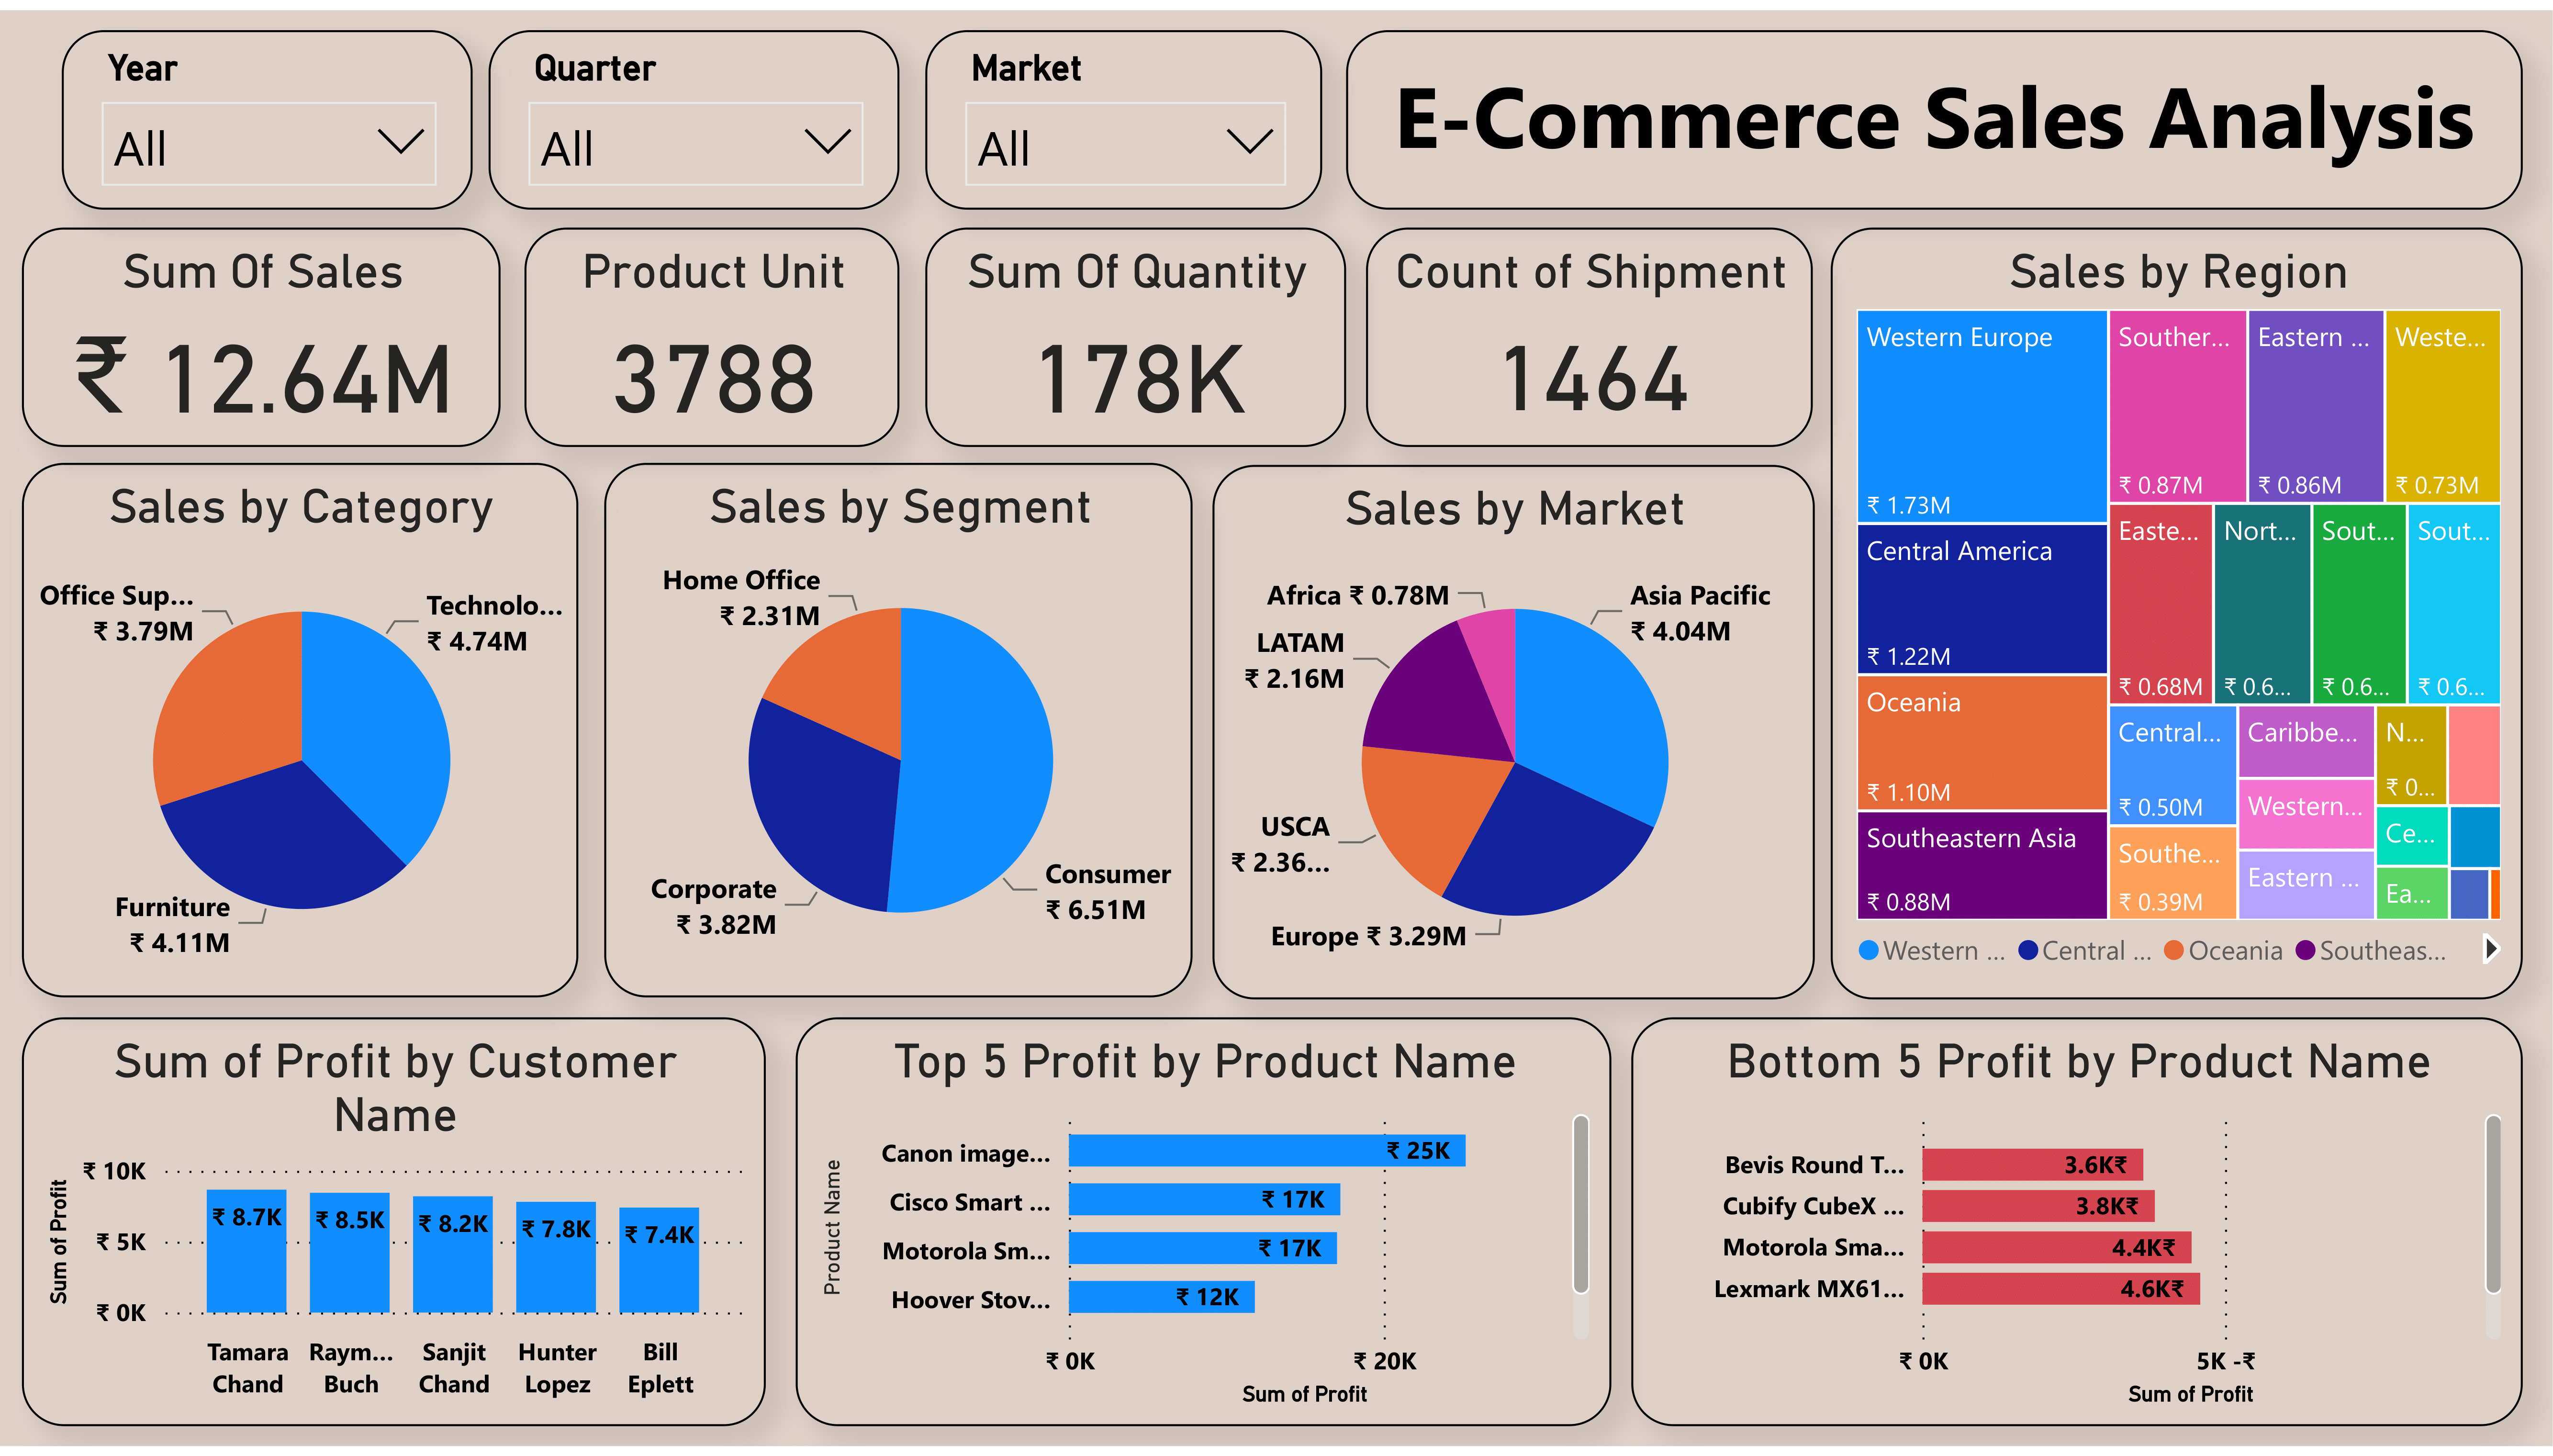

The dashboard page shown, as its layout file describes it:
{"tool":"powerbi","page":{"name":"project `","canvas":[1280,720],"ordinal":0},"visuals":[{"type":"slicer","fields":{"Values":["Orders.Order Date.Variation.Date Hierarchy.Year"]},"box":[10.9,9.6,226.7,90.5],"z":0},{"type":"card","title":"Total Profit ","fields":{"Values":["Orders.Profit"]},"box":[271.4,108.5,224.3,109.7],"z":1000},{"type":"card","title":"Sum Of Quantity","fields":{"Values":["Orders.Quantity"]},"box":[501.7,108.5,211.1,109.7],"z":2000},{"type":"card","title":"Avg Ship Date","fields":{"Values":["Orders.avgdel"]},"box":[721.2,109.7,188.1,109.7],"z":3000},{"type":"card","title":"Total Sales","fields":{"Values":["Orders.Sales"]},"box":[10.9,108.5,240,109.7],"z":4000},{"type":"pieChart","title":"Sales by Category","fields":{"Y":["Orders.Sales"],"Category":["Orders.Category"]},"box":[10.9,226.7,278.6,267.7],"z":5000},{"type":"pieChart","title":"Profit by Category","fields":{"Category":["Orders.Category"],"Y":["Orders.Profit"]},"box":[302.7,226.7,295.5,267.7],"z":6000},{"type":"pieChart","title":"Sales by Market ","fields":{"Y":["Orders.Sales"],"Category":["Orders.Market"]},"box":[607.8,227.9,301.5,267.7],"z":7000},{"type":"columnChart","fields":{"Y":["Orders.Profit"],"Category":["Orders.Customer Name"]},"box":[10.9,505.3,372.7,205],"z":8000},{"type":"barChart","title":"Top 5 Profit by Product Name","fields":{"Category":["Orders.Product Name"],"Y":["Orders.Profit"]},"box":[399.2,505.3,408.8,205],"z":9000},{"type":"barChart","title":"Bottom 5 Profit by Product Name","fields":{"Category":["Orders.Product Name"],"Y":["Orders.Profit"]},"box":[817.7,505.3,447.4,205],"z":10000},{"type":"textbox","box":[675.4,9.6,589.7,90.5],"z":11000},{"type":"slicer","fields":{"Values":["Orders.Order Date.Variation.Date Hierarchy.Quarter"]},"box":[244.8,9.6,206.2,90.5],"z":12000},{"type":"slicer","fields":{"Values":["Orders.Market"]},"box":[464.3,9.6,199,90.5],"z":13000},{"type":"treemap","title":"Sales by Region","fields":{"Group":["Orders.Region"],"Values":["Orders.Sales"]},"box":[917.8,108.5,347.3,387.1],"z":14000}]}

Visuals, with their boxes in screenshot pixels (x1, y1, x2, y2), scaled from the page's 1280x720 canvas onto the 2553x1456 screenshot:
slicer - Orders.Order Date.Variation.Date Hierarchy.Year: region(22, 20, 474, 202)
"Total Profit " card: region(541, 219, 989, 441)
"Sum Of Quantity" card: region(1001, 219, 1422, 441)
"Avg Ship Date" card: region(1438, 222, 1814, 444)
"Total Sales" card: region(22, 219, 501, 441)
"Sales by Category" pieChart: region(22, 459, 577, 1000)
"Profit by Category" pieChart: region(604, 459, 1193, 1000)
"Sales by Market " pieChart: region(1212, 461, 1814, 1002)
columnChart - Orders.Profit x Orders.Customer Name: region(22, 1022, 765, 1436)
"Top 5 Profit by Product Name" barChart: region(796, 1022, 1612, 1436)
"Bottom 5 Profit by Product Name" barChart: region(1631, 1022, 2523, 1436)
textbox: region(1347, 20, 2523, 202)
slicer - Orders.Order Date.Variation.Date Hierarchy.Quarter: region(488, 20, 899, 202)
slicer - Orders.Market: region(926, 20, 1323, 202)
"Sales by Region" treemap: region(1831, 219, 2523, 1002)
